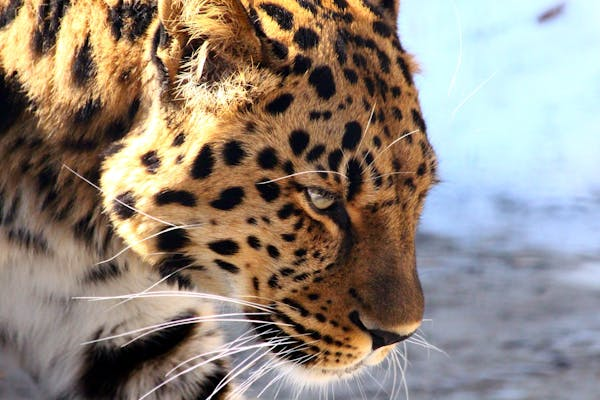Leopard: (1, 1, 438, 399)
